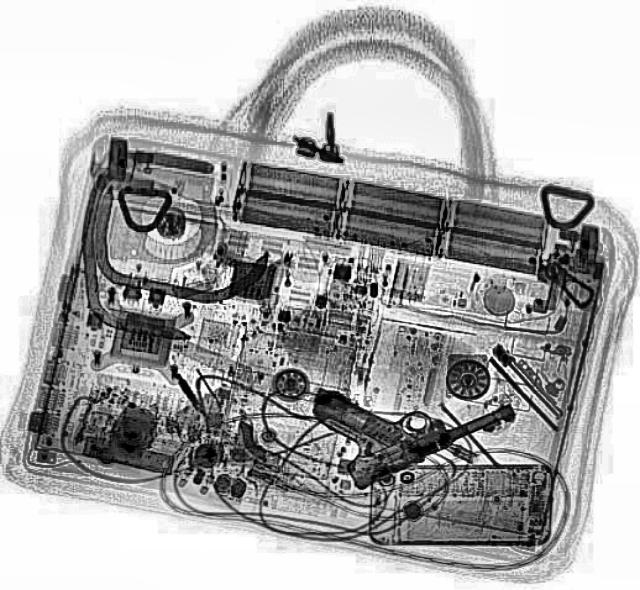Gun: (300, 328, 516, 488)
